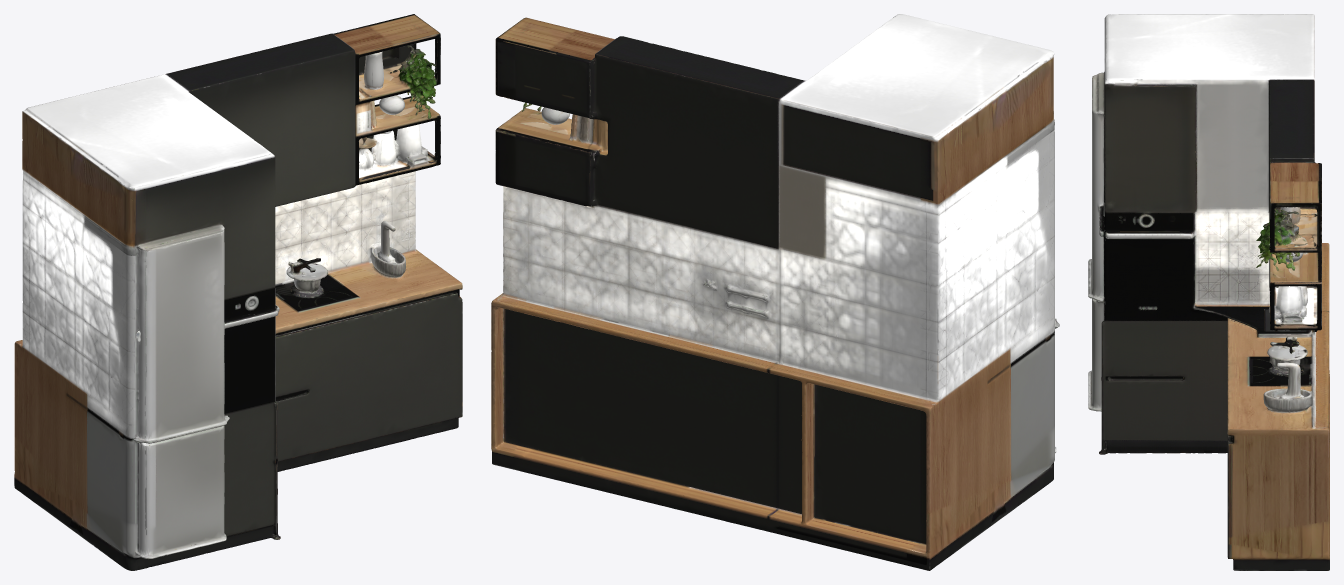
The model's file is kitchen-rm-ar.glb.
3 views of the same model, side by side, from view 1: azimuth 30°, elevation 25°; view 2: azimuth 150°, elevation 25°; view 3: azimuth 270°, elevation 25° (orthographic). The views are drawn at different scales.
Visible parts, largest first — view 1: Mesh_0; view 2: Mesh_0; view 3: Mesh_0.
Boxes of the visible parts, left/top/right/bottom form: Mesh_0: left=14, top=14, right=462, bottom=570; Mesh_0: left=491, top=14, right=1059, bottom=570; Mesh_0: left=1088, top=14, right=1329, bottom=570.
Bounding box in the file's own units: 1.91 × 1.78 × 1.04.
Materials: 1 (1 with a texture image).
